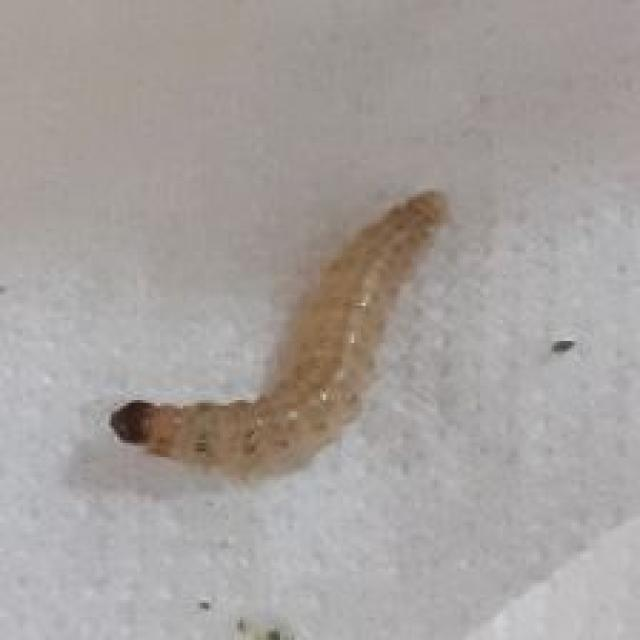white mucus: (69, 163, 491, 506)
